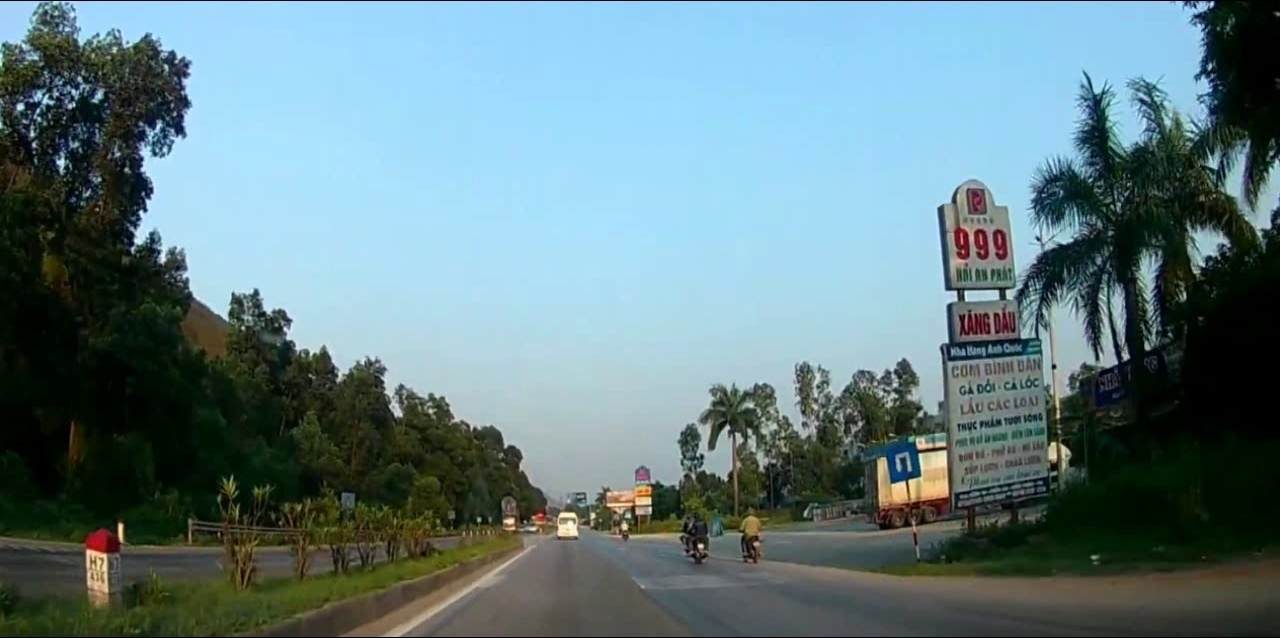Bien khac: (886, 438, 922, 483)
